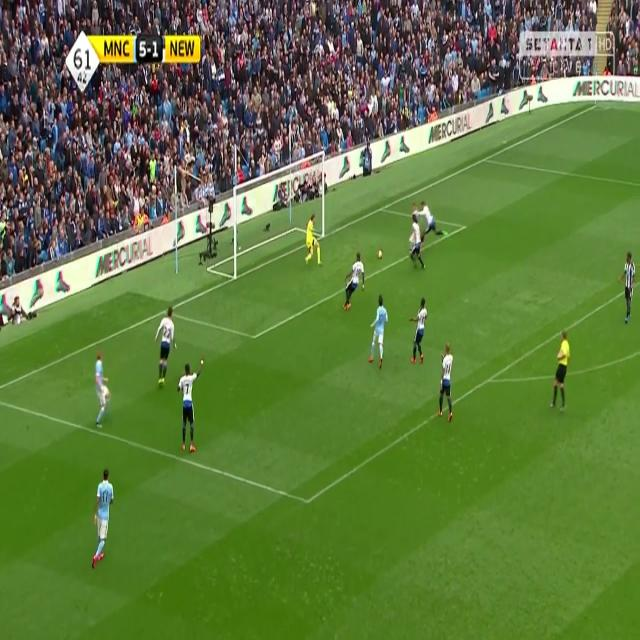Ball: (375, 249, 383, 261)
Goalkeeper: (304, 210, 321, 268)
Player: (177, 356, 205, 460), (90, 467, 116, 572), (153, 305, 178, 388), (366, 293, 389, 370), (436, 342, 456, 426), (342, 252, 366, 314), (409, 295, 428, 367), (419, 200, 452, 240), (93, 351, 110, 428), (618, 251, 635, 328), (408, 213, 427, 274)
Referee: (549, 328, 571, 415)
